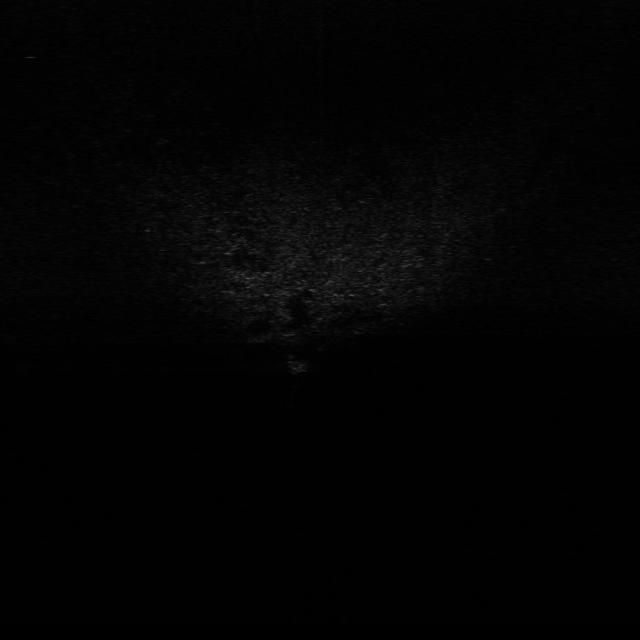cube: (286, 354, 320, 378)
